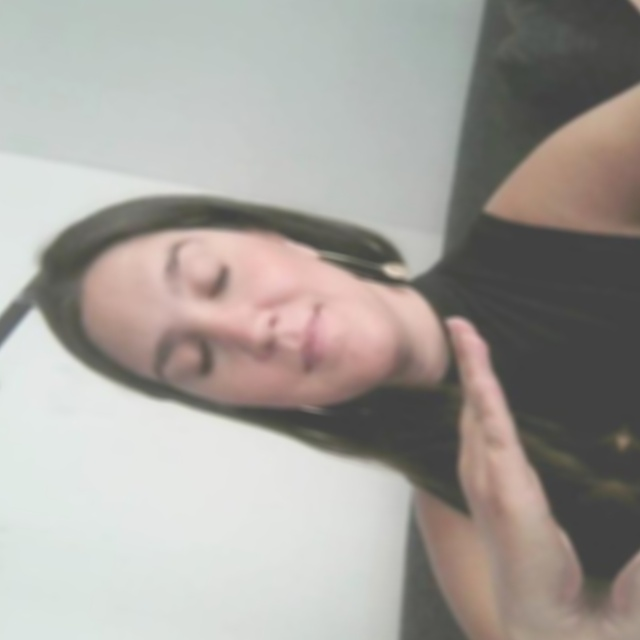Paper: (397, 304, 640, 630)
